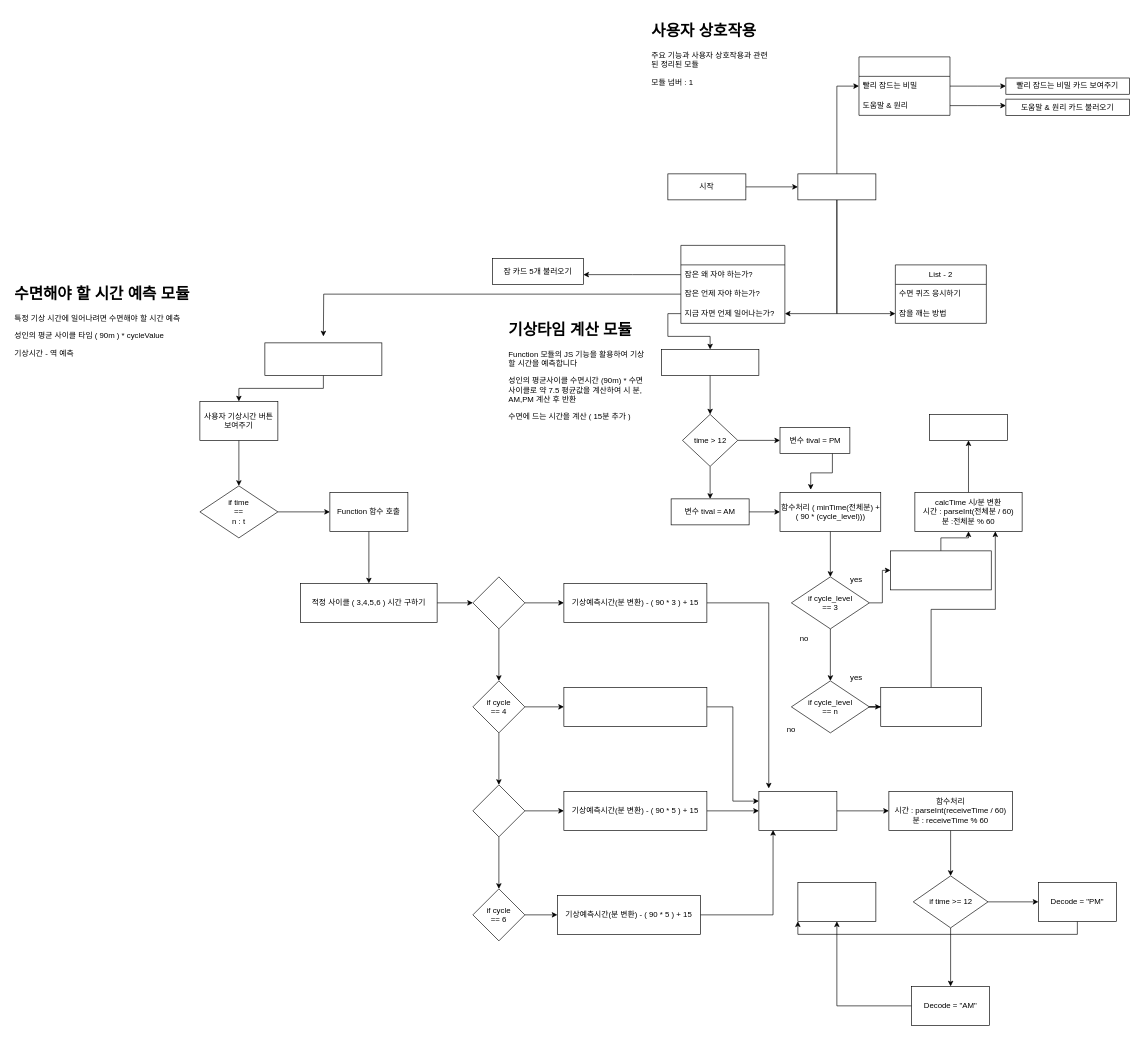
Image size: 1141x1037. Some labels were removed from this diagram. Here are the shapes that lost their labels. From the top down, the box of each, then its label:
(858, 56, 950, 115): Quick-Button
(797, 173, 876, 200): 버튼 보여주기
(680, 245, 785, 323): List - 1
(264, 342, 382, 375): 적정 수면시간 예측모델
(661, 349, 759, 375): Function 모듈 불러오기
(929, 414, 1008, 440): return calcTimeED
(890, 550, 991, 590): 함수처리 ( minTime(전체분) + ( 90 * (3))) + 15
(472, 576, 525, 629): if cycle == 3
(563, 687, 707, 726): 기상예측시간(분 변환) - ( 90 * 4 ) + 15
(880, 687, 982, 726): 함수처리 ( minTime(전체분) + ( 90 * (n))) + 15
(472, 784, 525, 837): if cycle == 5
(758, 791, 837, 830): 계산결과 저장 value = receiveTime
(797, 882, 876, 921): return 시간, 분, Decode
